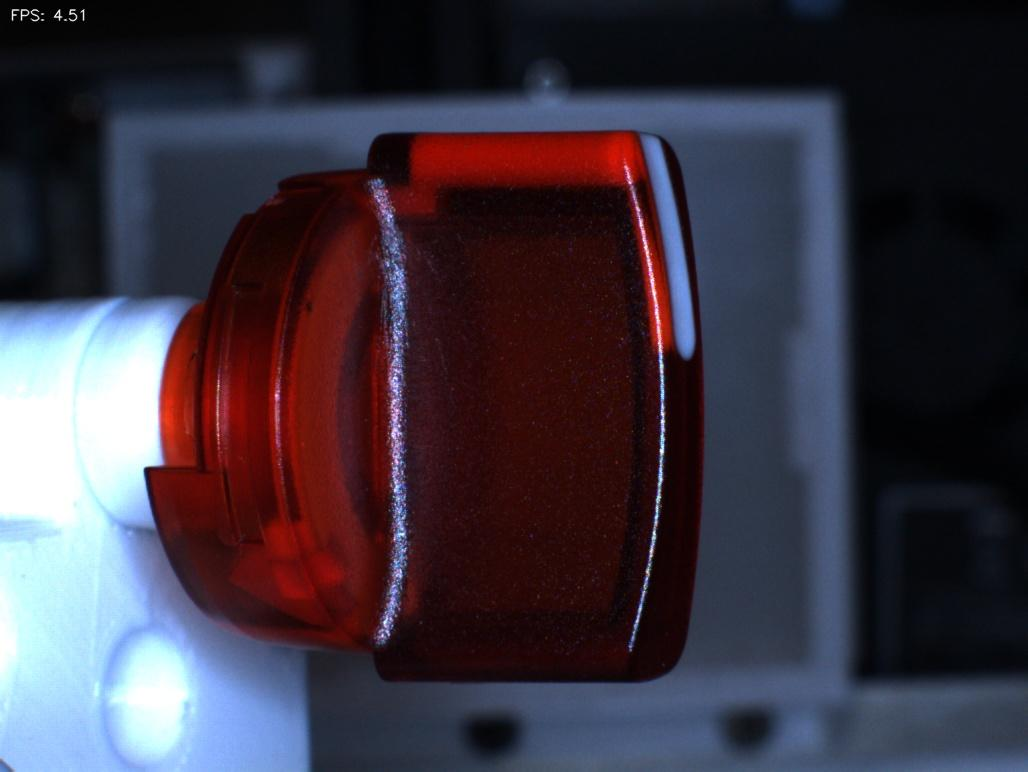Givrage: (359, 217, 453, 372)
